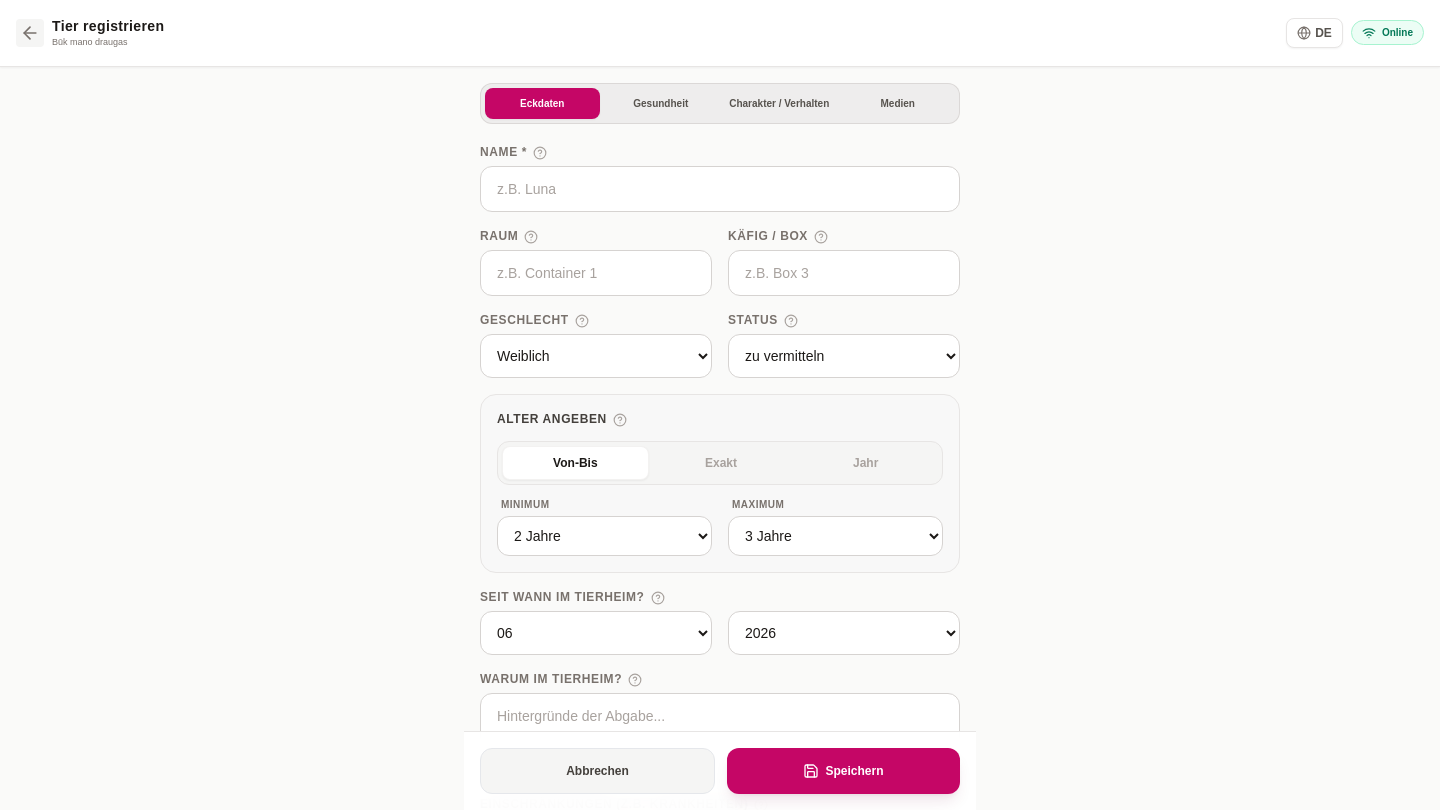
Test case: CreateCatPage Validation, Multilingual, Offline & Edge Cases › Cozy Info Buttons: tapping name help icon opens bottom sheet with name help content
Expected: the text "💡 Ausfüll-Hilfe:" is not shown
Click the name help button
Step 1. Click the button titled "Hilfe anzeigen" next to "Name *" → (540, 152), box [531,144,549,162]
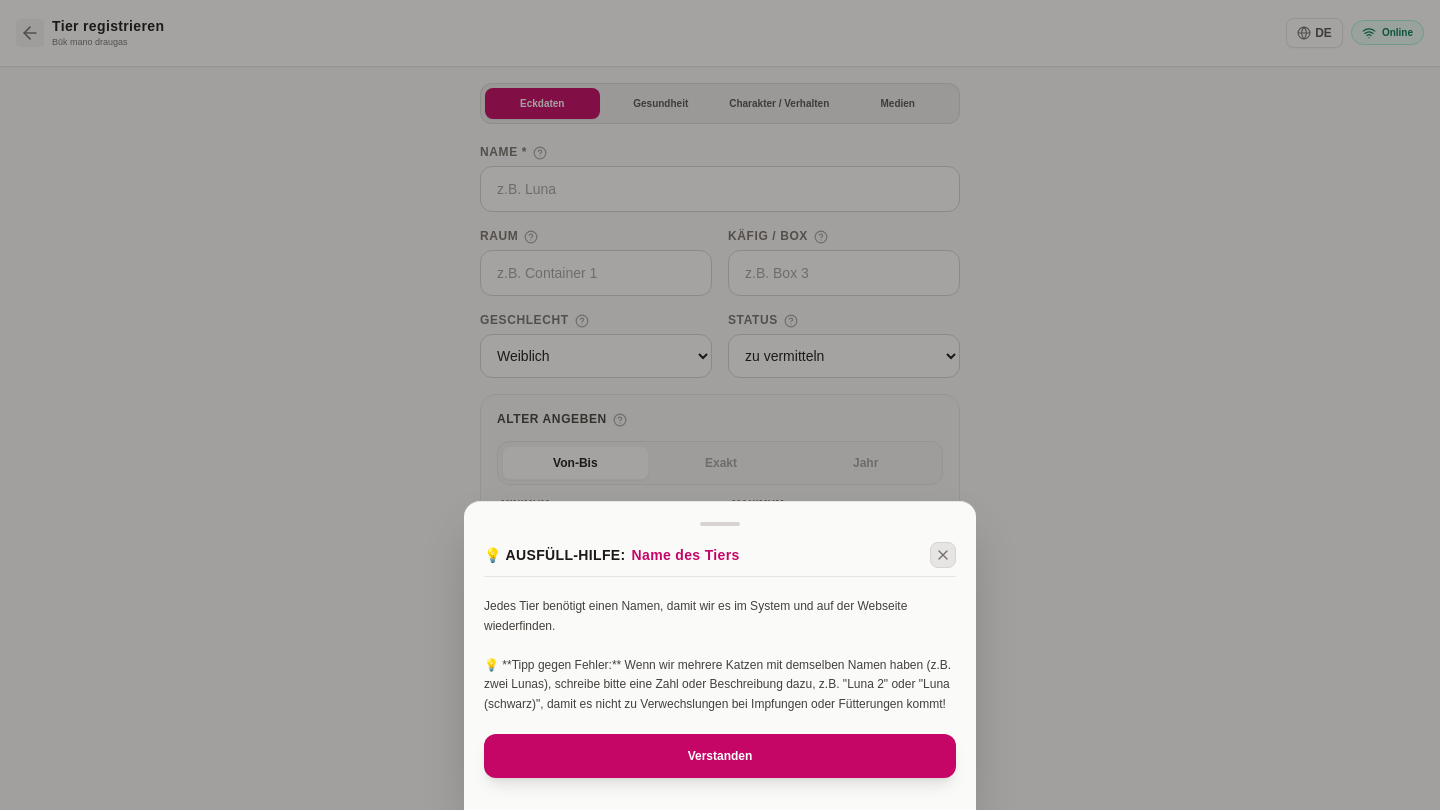
Now the text "💡 Ausfüll-Hilfe:" is shown, box [484,545,626,565]
Now the text "Name des Tiers" is shown, box [632,545,740,565]
Now the text "Jedes Tier benötigt einen Namen" is shown, box [484,599,951,710]
Click closing button "Verstanden"
Step 2. Click the button "Verstanden" → (720, 756), box [484,734,956,778]
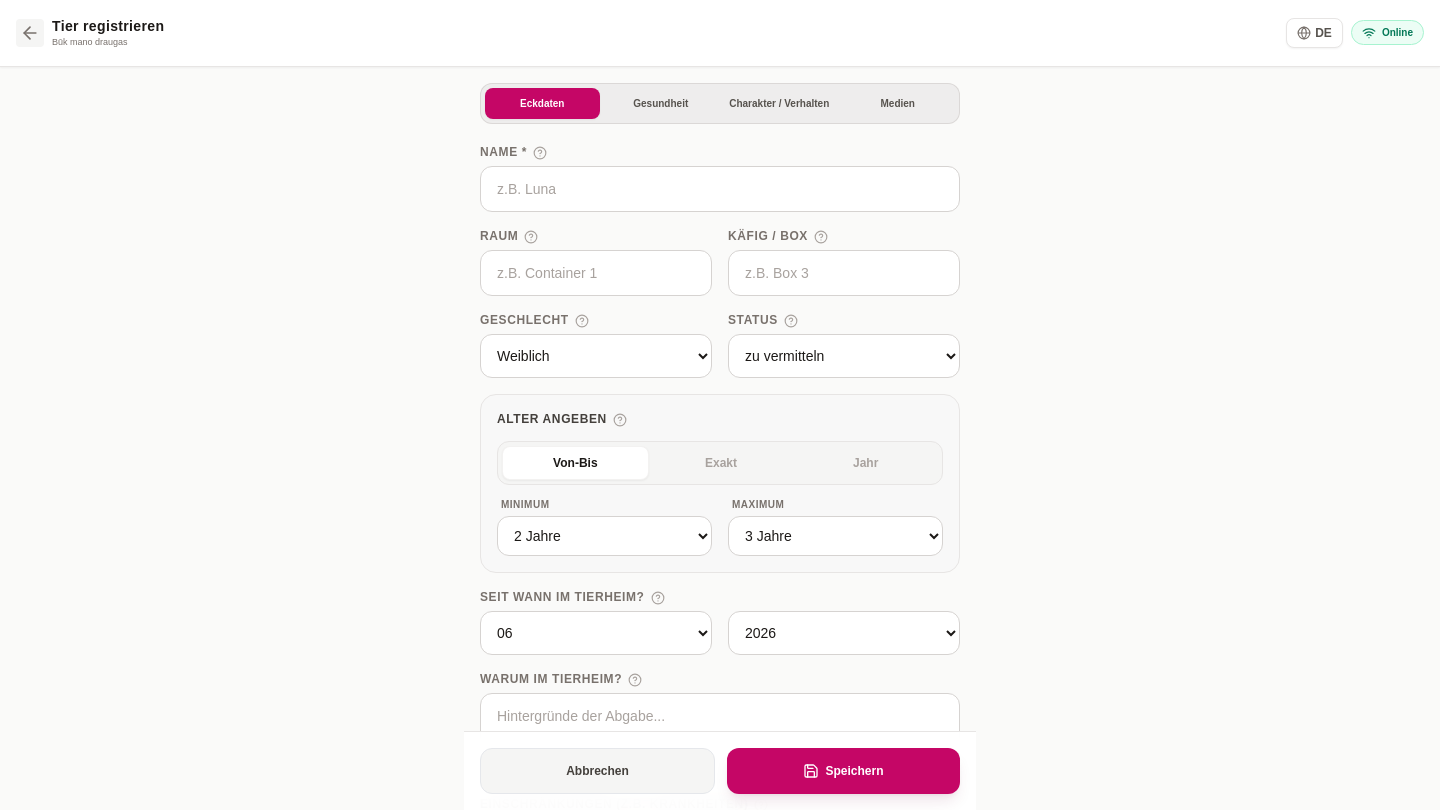
Now the text "💡 Ausfüll-Hilfe:" is gone
